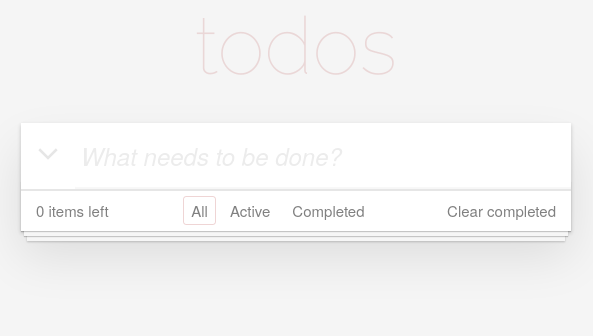
Scenario: App Component › adds a new task
Type "New Task" into the field with placeholder "What needs to be done?". click: (323, 156)
box: x1=75 y1=123 x2=571 y2=189
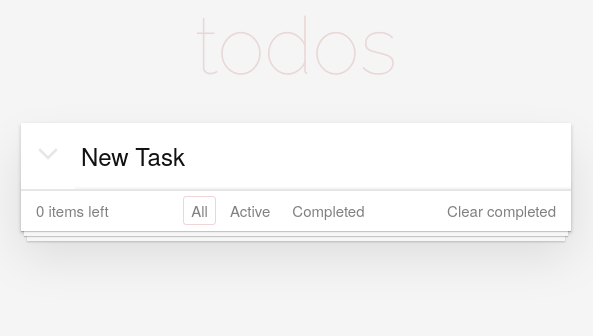
Click the button named "Add task". click: (48, 153)
box: x1=21 y1=123 x2=75 y2=183
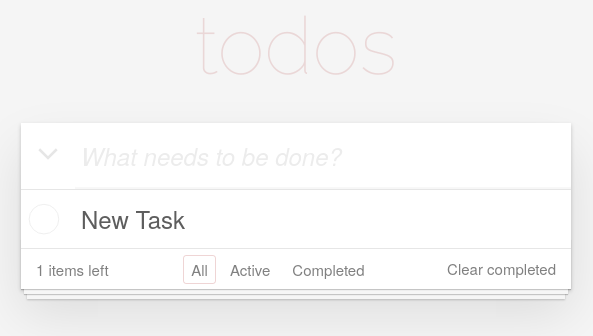
Check: the text "New Task" is shown, box x1=81 y1=205 x2=185 y2=233
